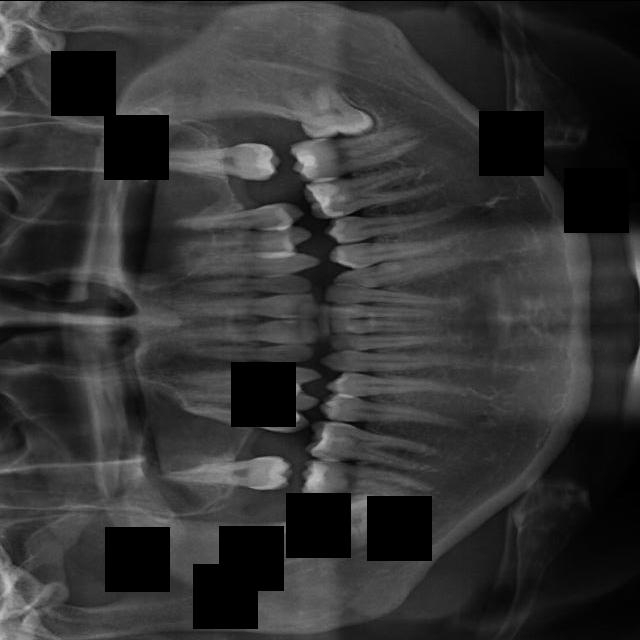AGS Medikal Implant: (404, 139, 405, 140)
AMerOss Implant: (301, 162, 446, 221)
Amalgam filling: (160, 455, 294, 489)
Anthogyr Implant: (320, 201, 468, 245)
Bicon Implant: (326, 230, 472, 272)
BioHorizons Implant: (330, 245, 469, 296)
BioLife Implant: (323, 282, 457, 313)
Biomet 3i Implant: (325, 302, 436, 321)
Blue Sky Bio Implant: (329, 319, 438, 333)
Camlog Implant: (328, 335, 449, 350)
Caries: (174, 273, 315, 299)
Composite filling: (318, 350, 461, 373)
Cowellmedi Implant: (324, 368, 475, 409)
Crown: (315, 390, 477, 438)
Dentatus Implant: (302, 418, 443, 474)
Dentis Implant: (298, 458, 438, 511)
Dentium Implant: (313, 498, 390, 552)
Euroteknika Implant: (179, 389, 311, 436)
Filling: (171, 371, 321, 412)
Frontier Implant: (167, 361, 323, 388)
Hiossen Implant: (164, 250, 322, 276)
Implant: (164, 317, 321, 344)
Implant Direct: (171, 344, 316, 362)
Keystone Dental Implant: (163, 290, 320, 319)
MIS Implant: (176, 223, 313, 255)
Mandible: (173, 198, 307, 246)
Megagen Implant: (155, 142, 282, 180)
Neoss Implant: (279, 69, 375, 150)
